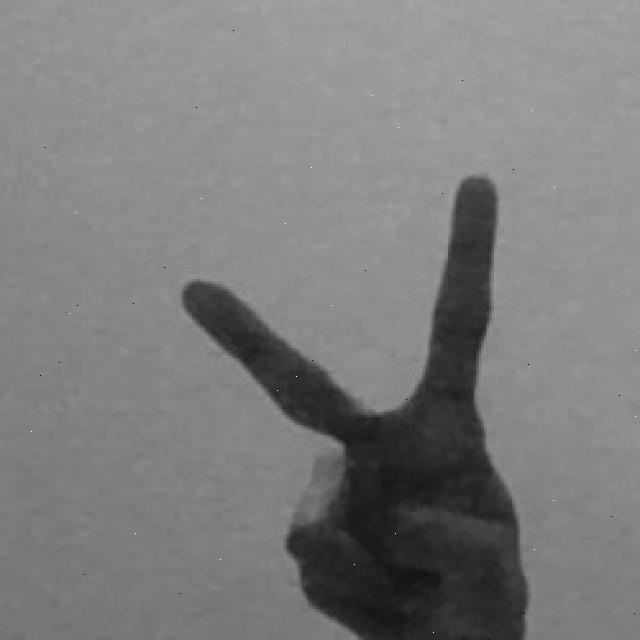V: (180, 165, 536, 640)
